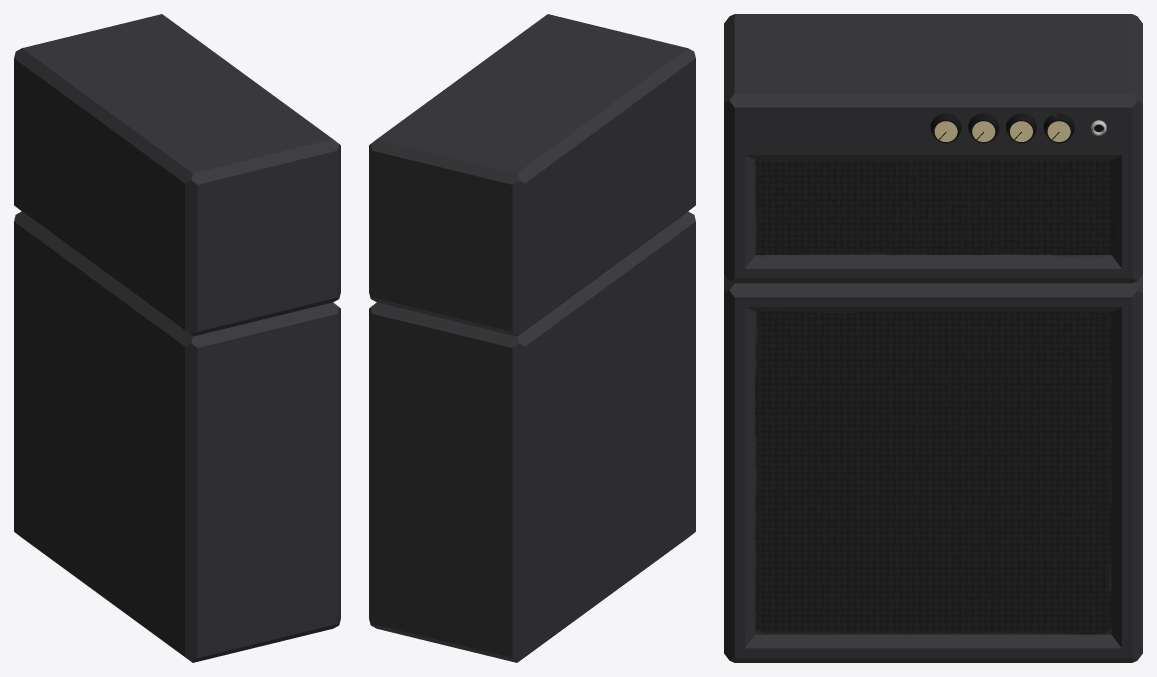
Rendered from portfolio-amp3.glb.
3 views of the same model, side by side, from view 1: azimuth 30°, elevation 25°; view 2: azimuth 150°, elevation 25°; view 3: azimuth 270°, elevation 25° (orthographic). The views are drawn at different scales.
Visible parts, largest first — view 1: cabinet, top; view 2: cabinet, top; view 3: cabinet_cloth, top, cabinet, top_cloth, knob_2, knob_4, knob_1, knob_3.
Part boxes in pixels (x1=…): cabinet: x1=14, y1=211, x2=340, y2=662; top: x1=14, y1=14, x2=340, y2=336; cabinet: x1=369, y1=211, x2=695, y2=662; top: x1=369, y1=14, x2=695, y2=336; cabinet_cloth: x1=755, y1=312, x2=1111, y2=634; top: x1=724, y1=14, x2=1142, y2=283; cabinet: x1=724, y1=274, x2=1142, y2=662; top_cloth: x1=755, y1=160, x2=1111, y2=254; knob_2: x1=968, y1=113, x2=999, y2=143; knob_4: x1=1043, y1=113, x2=1074, y2=143; knob_1: x1=930, y1=113, x2=961, y2=143; knob_3: x1=1006, y1=113, x2=1036, y2=143.
Bounding box in the file's own units: 2.09 × 6 × 4.
Materials: 1 (1 with a texture image).
